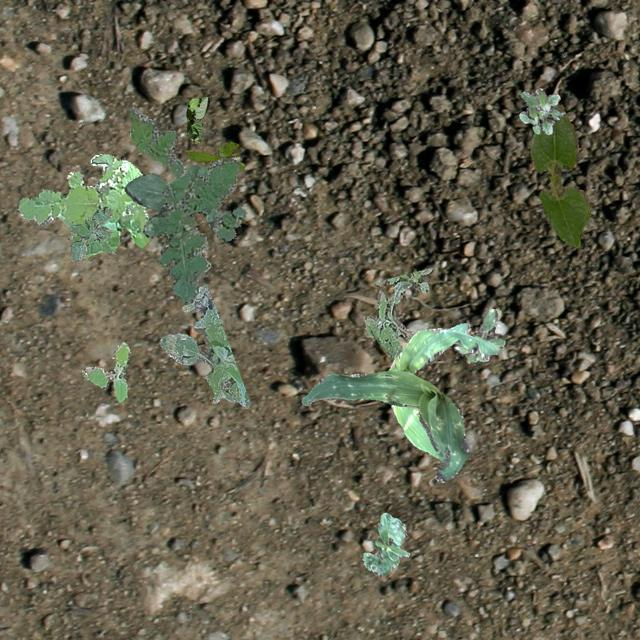crop: (300, 368, 467, 482), (388, 322, 500, 462), (528, 104, 590, 246), (124, 163, 208, 210), (361, 512, 408, 574), (186, 96, 208, 142)
weed: (128, 105, 244, 302), (17, 154, 148, 256), (158, 284, 248, 406), (364, 266, 432, 358), (80, 340, 130, 400), (454, 308, 504, 362), (68, 205, 112, 262), (518, 86, 564, 134), (186, 140, 243, 168)
